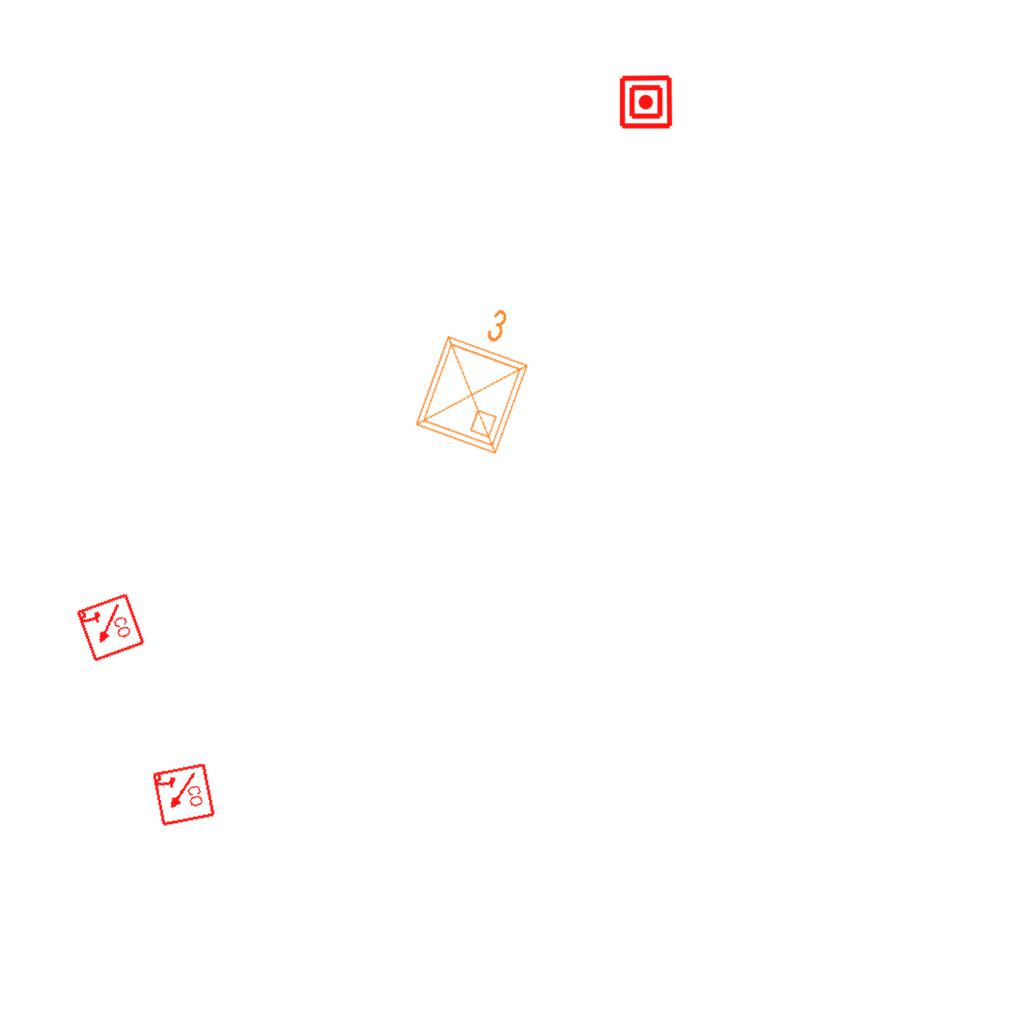Einbaudownlights_LED_Konferenzraeume: (402, 286, 552, 464)
NAM-Nichtautomatischer_Melder: (618, 74, 674, 130)
ROA_Rauchmelder_optisch_mit_Signalgeber_(Sockelsirene): (74, 592, 146, 664), (150, 762, 216, 828)
